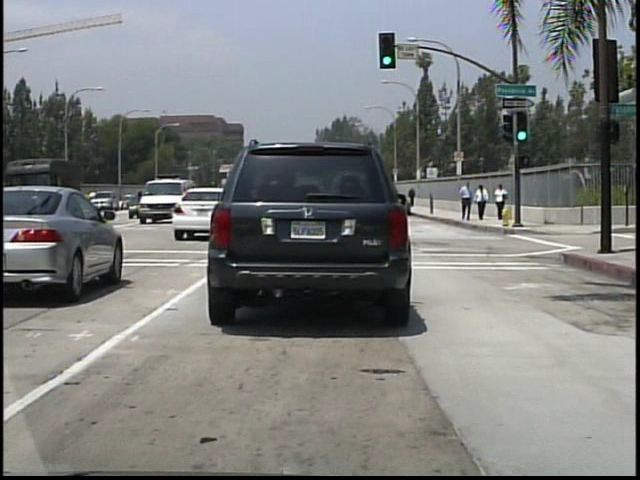person: (458, 179, 474, 223), (474, 185, 489, 222), (493, 184, 507, 215), (409, 186, 417, 208)
